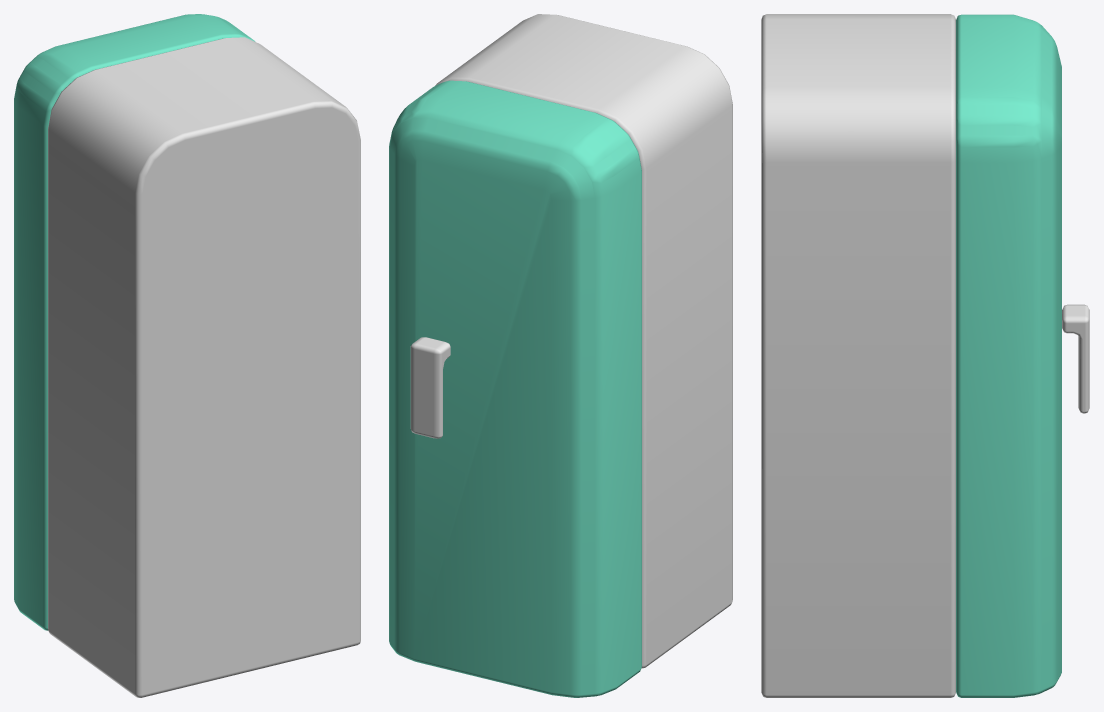
Rendered from frige.fbx.
3 views of the same model, side by side, from view 1: azimuth 30°, elevation 25°; view 2: azimuth 150°, elevation 25°; view 3: azimuth 270°, elevation 25° (orthographic). The views are drawn at different scales.
Parts seen in each view (by area): view 1: refri, refri.001; view 2: refri.001, refri, Plane.007; view 3: refri, refri.001, Plane.007.
Part boxes in pixels (bbox=[...]): refri: bbox=[48, 37, 360, 697]; refri.001: bbox=[14, 14, 255, 630]; refri.001: bbox=[389, 80, 641, 697]; refri: bbox=[435, 14, 732, 668]; Plane.007: bbox=[410, 337, 450, 438]; refri: bbox=[761, 14, 955, 697]; refri.001: bbox=[956, 14, 1061, 697]; Plane.007: bbox=[1062, 304, 1089, 413].
Size of the model in its own units: 234 by 551 by 279.
